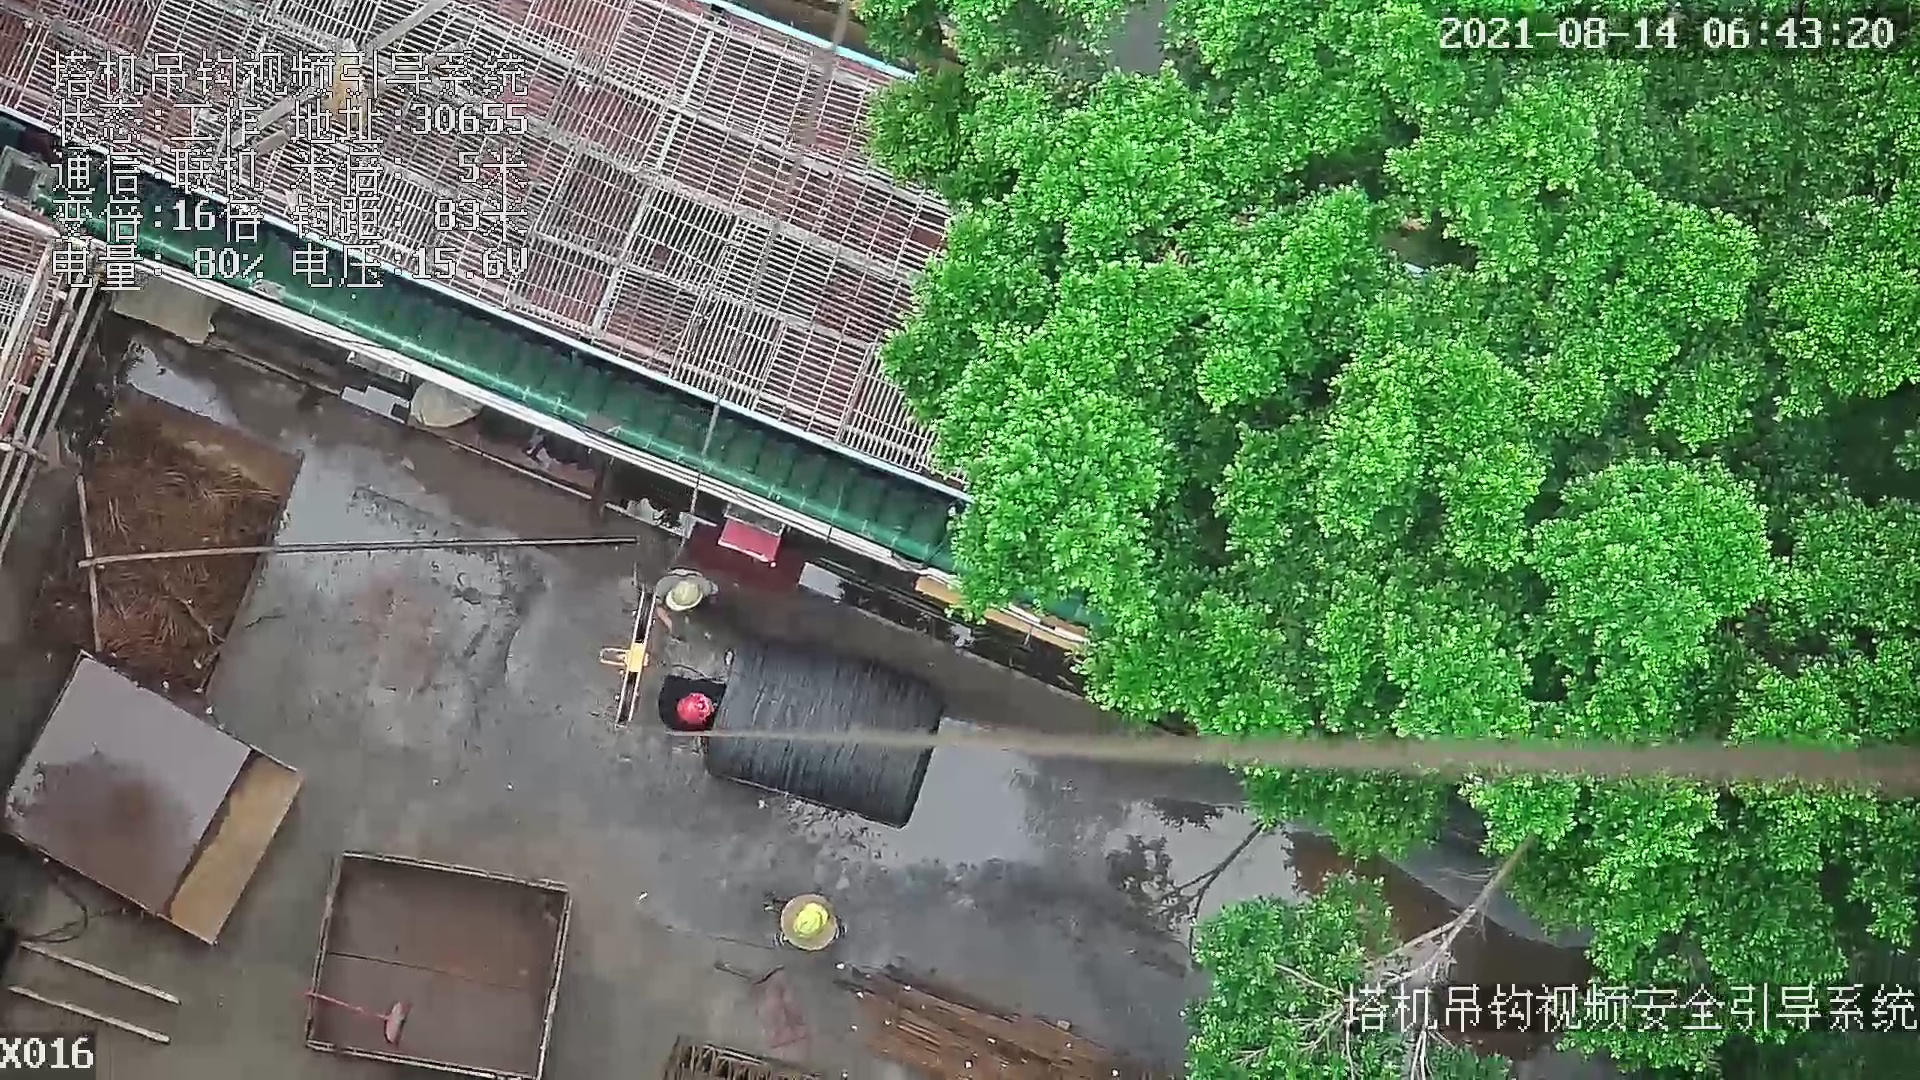helmet: (785, 894, 833, 942), (670, 686, 719, 722), (663, 575, 704, 619)
hook: (594, 577, 662, 731)
person: (762, 885, 853, 960), (658, 555, 727, 646), (653, 663, 728, 737)
